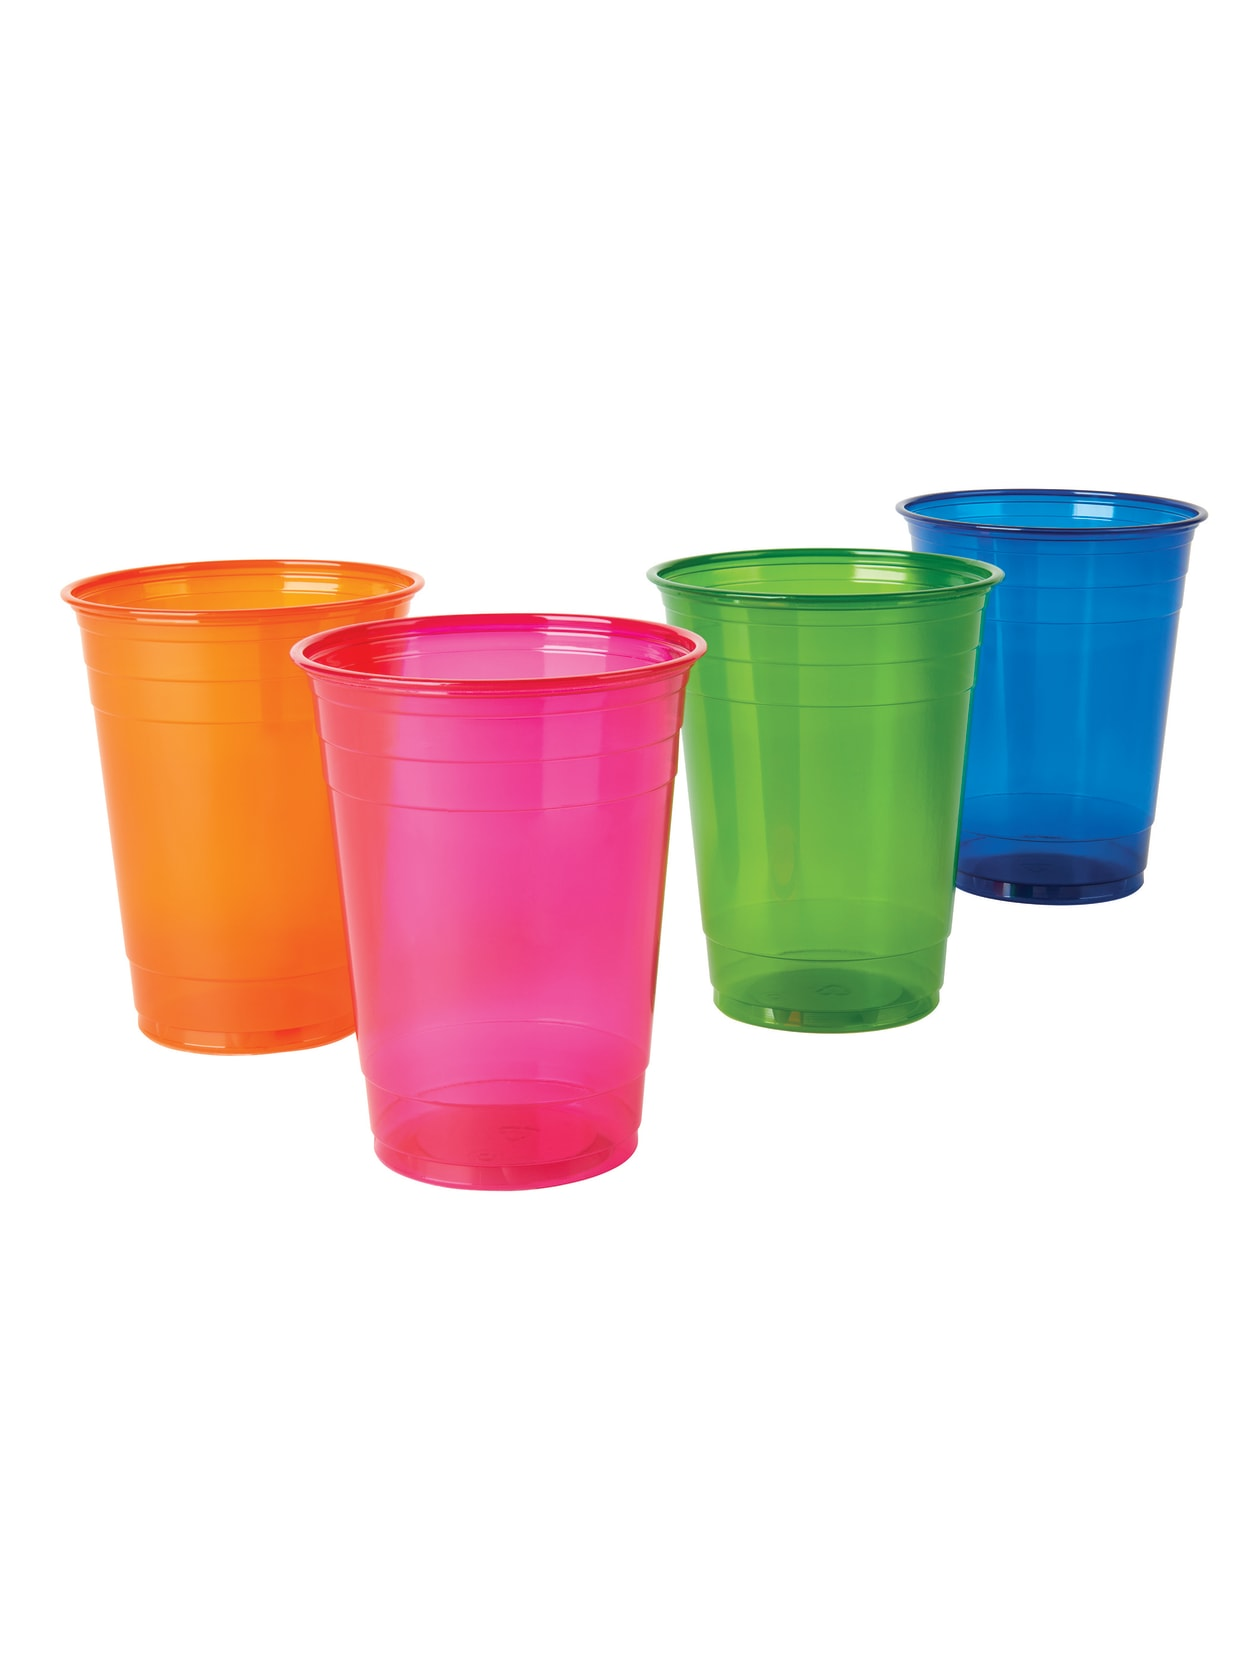plastic_bottle: (286, 607, 721, 1201), (646, 530, 1018, 1045), (888, 477, 1205, 918)
